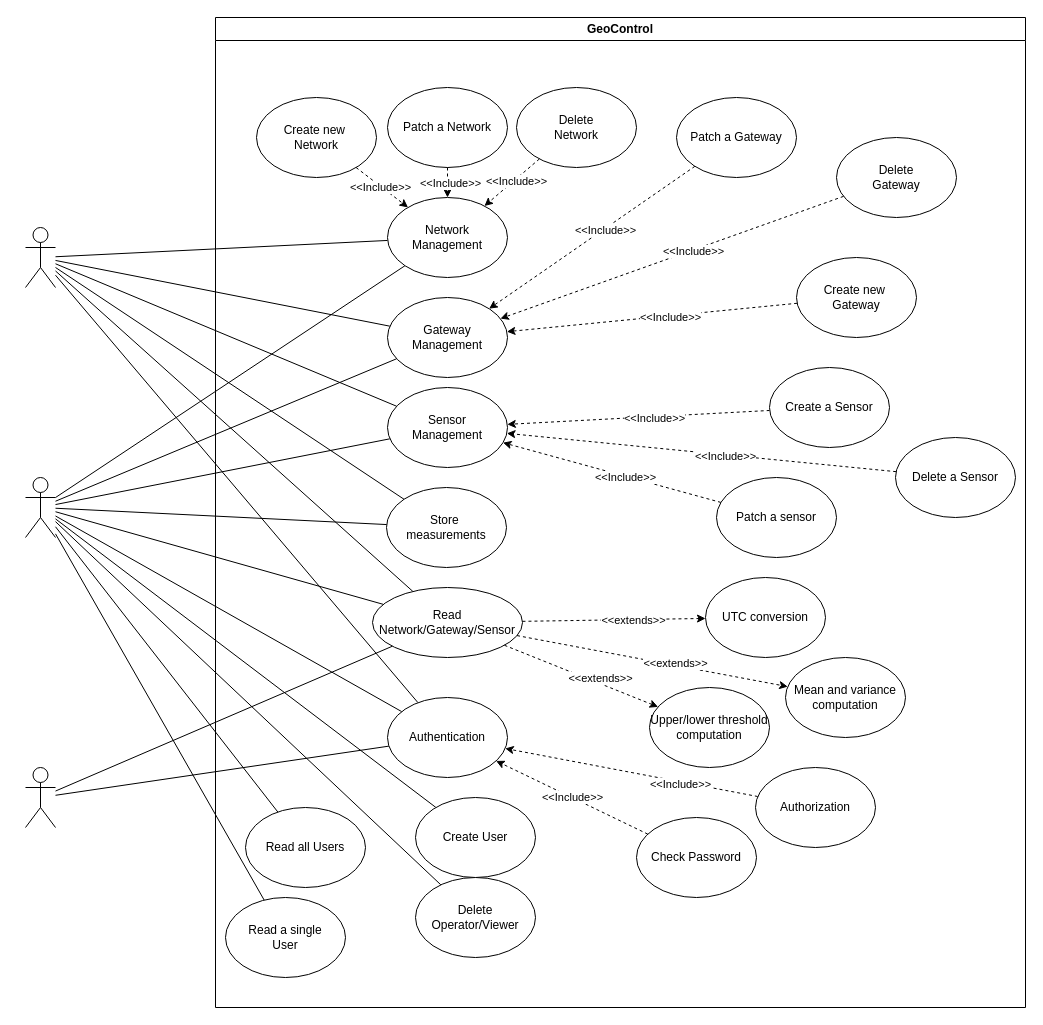
Image size: 1043x1025. Some labels were removed from this diagram. Each missing label, with the centre of its shape:
Admin: [40,507]
Operator: [40,257]
Viewer: [40,797]
